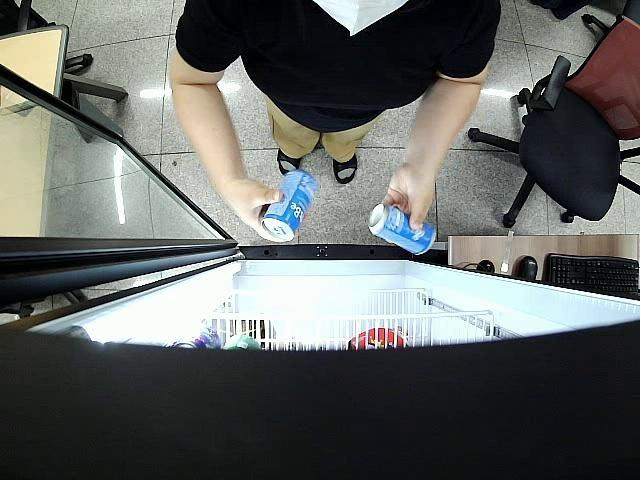15_letsbe: (262, 170, 316, 242), (369, 203, 436, 255)
